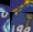mirror: (0, 12, 10, 32), (0, 0, 10, 12)
